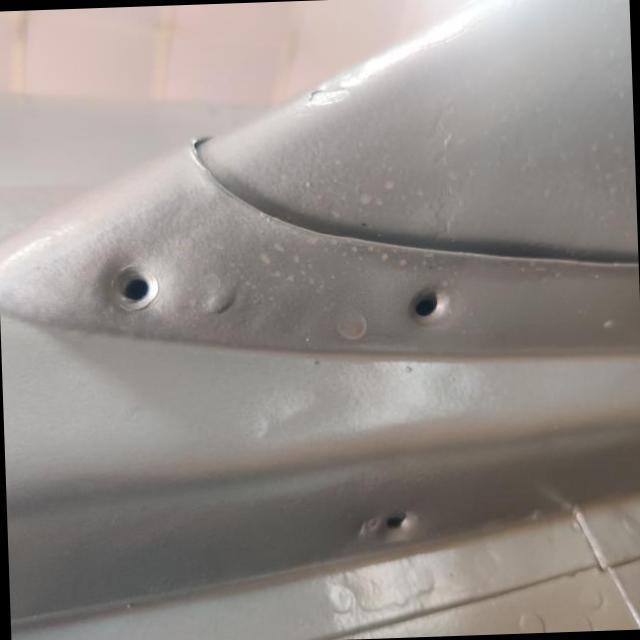Fastener Damage: (65, 224, 198, 361), (358, 255, 480, 368)
